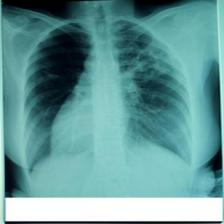tuberculosis: (17, 17, 206, 194)
